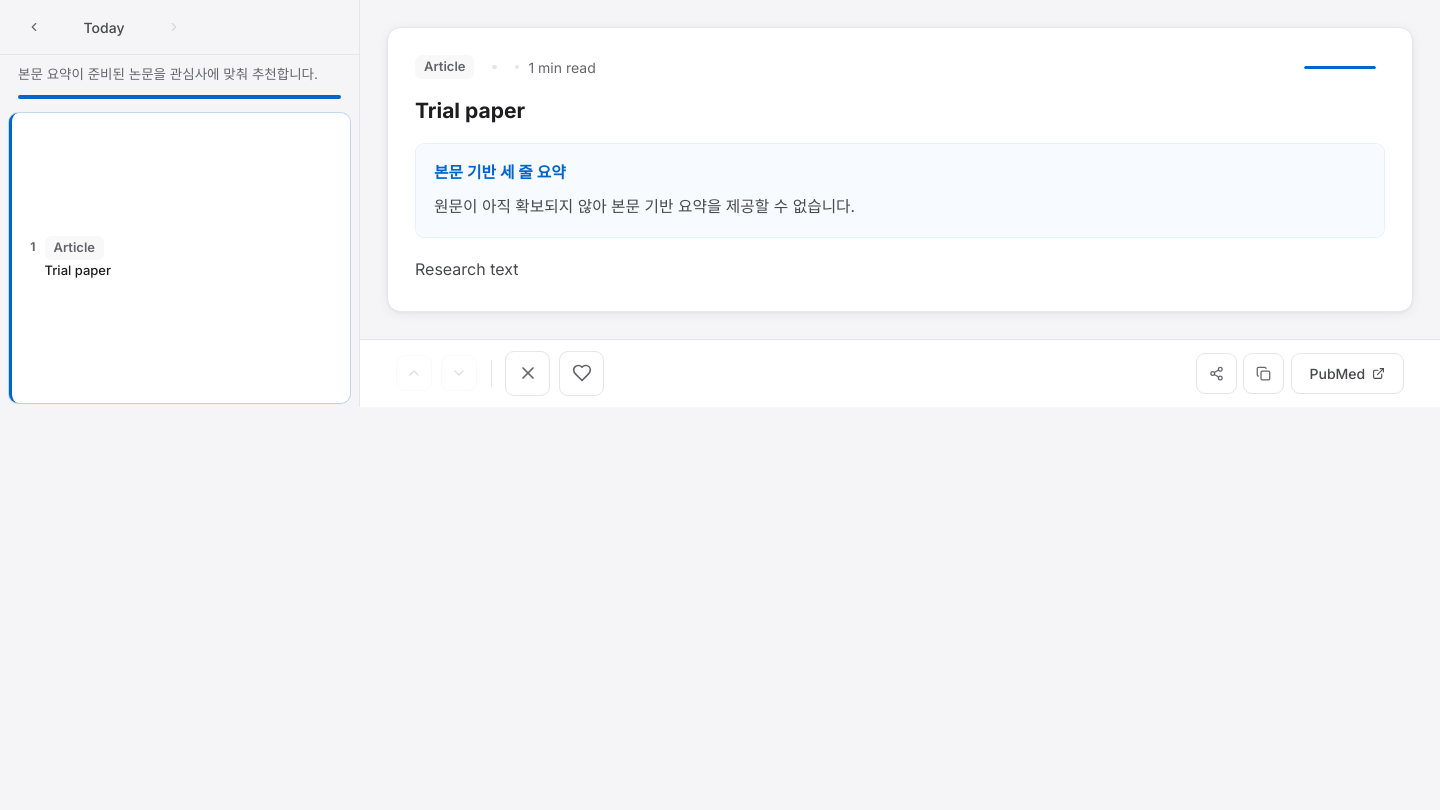
Test: leaves a paper unliked when feedback persistence fails
The image size is (1440, 810).
Click the button named "Like paper".
click(582, 373)  # box [559,351,604,396]
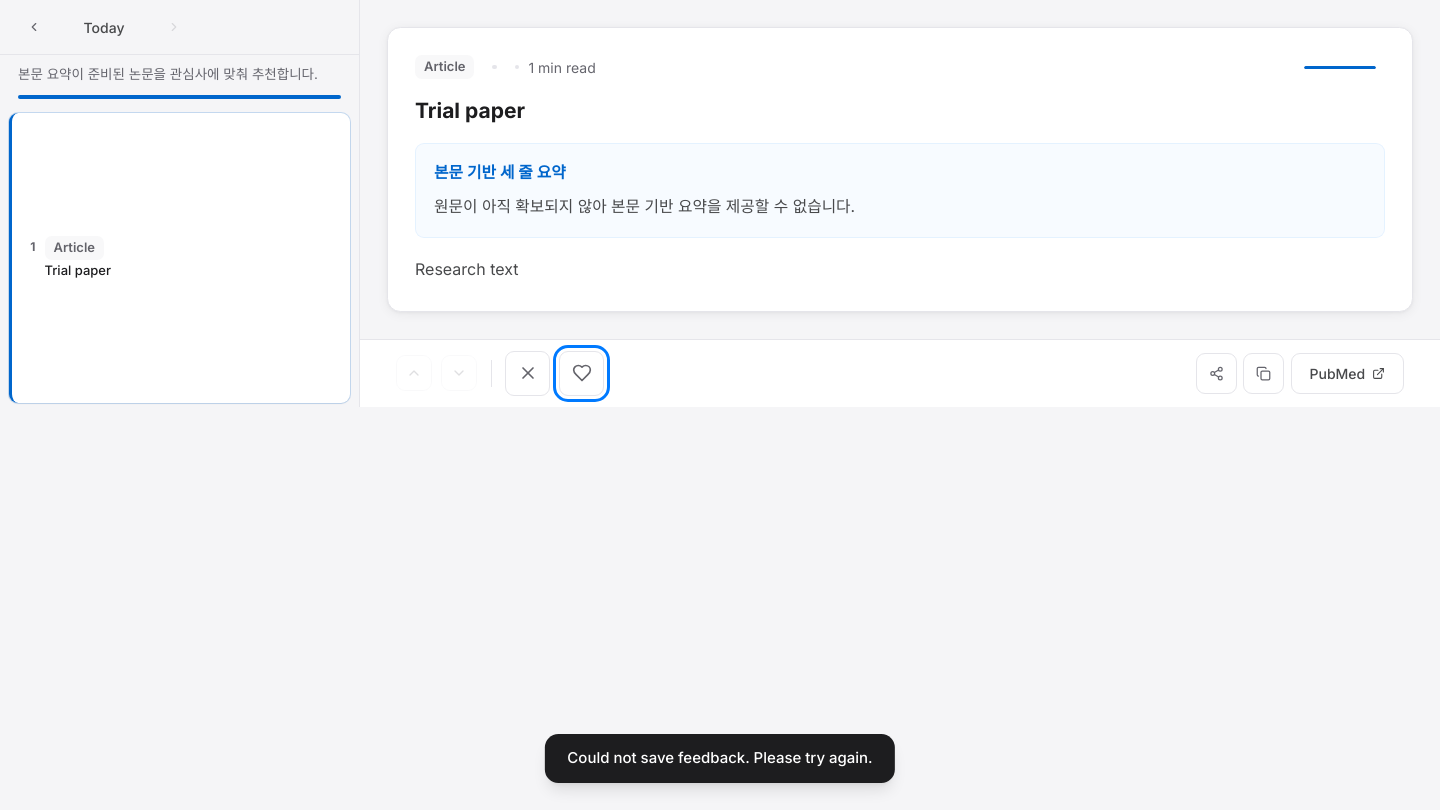
Check: the message shows "Could not save feedback", box [567,748,873,767]
